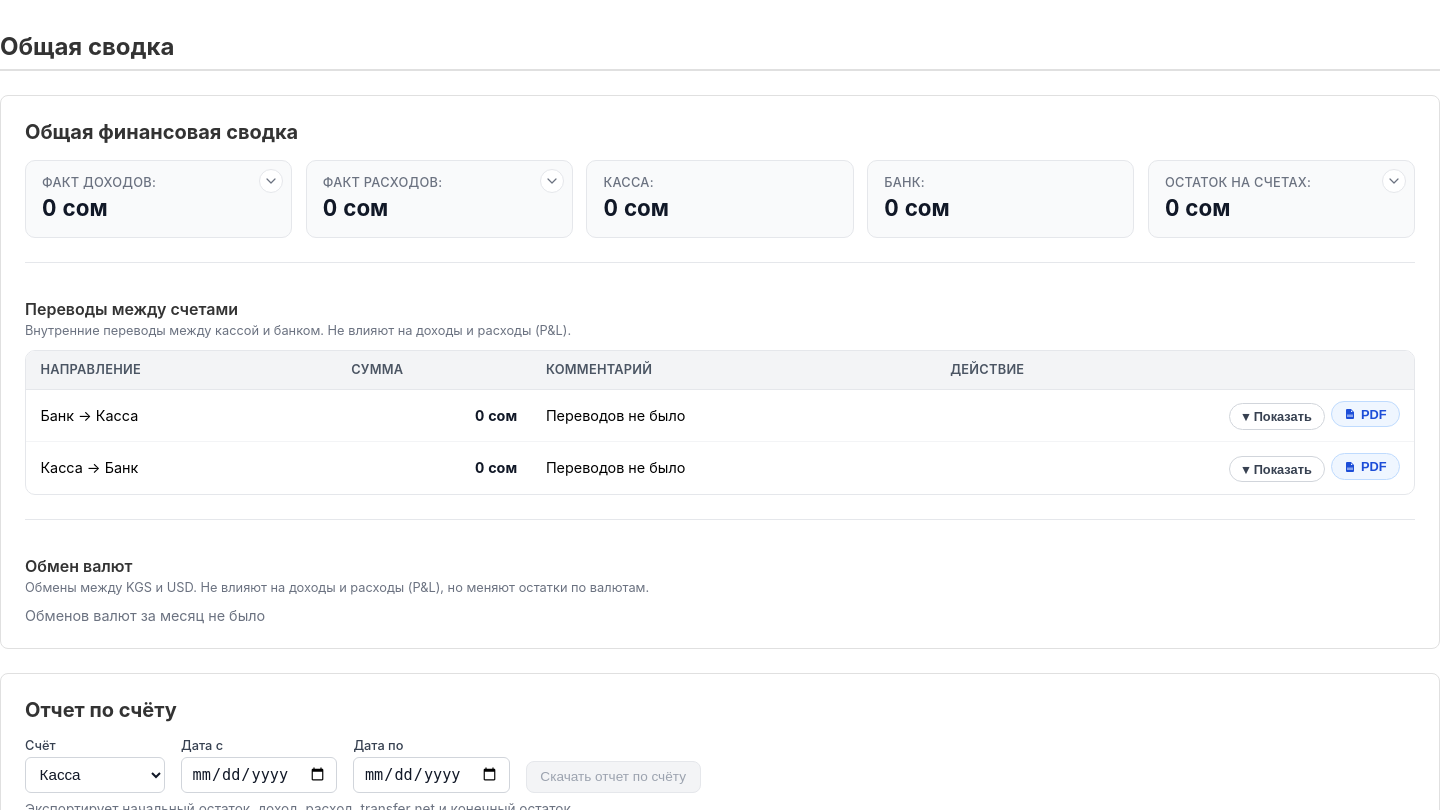
GlobalSummary section PDF export › detail filter defaults from parent filter values
The width and height of the screenshot is (1440, 810).
Click the button named "Показать детализацию расходов по категориям" at (552, 181), box [540,169,564,193]
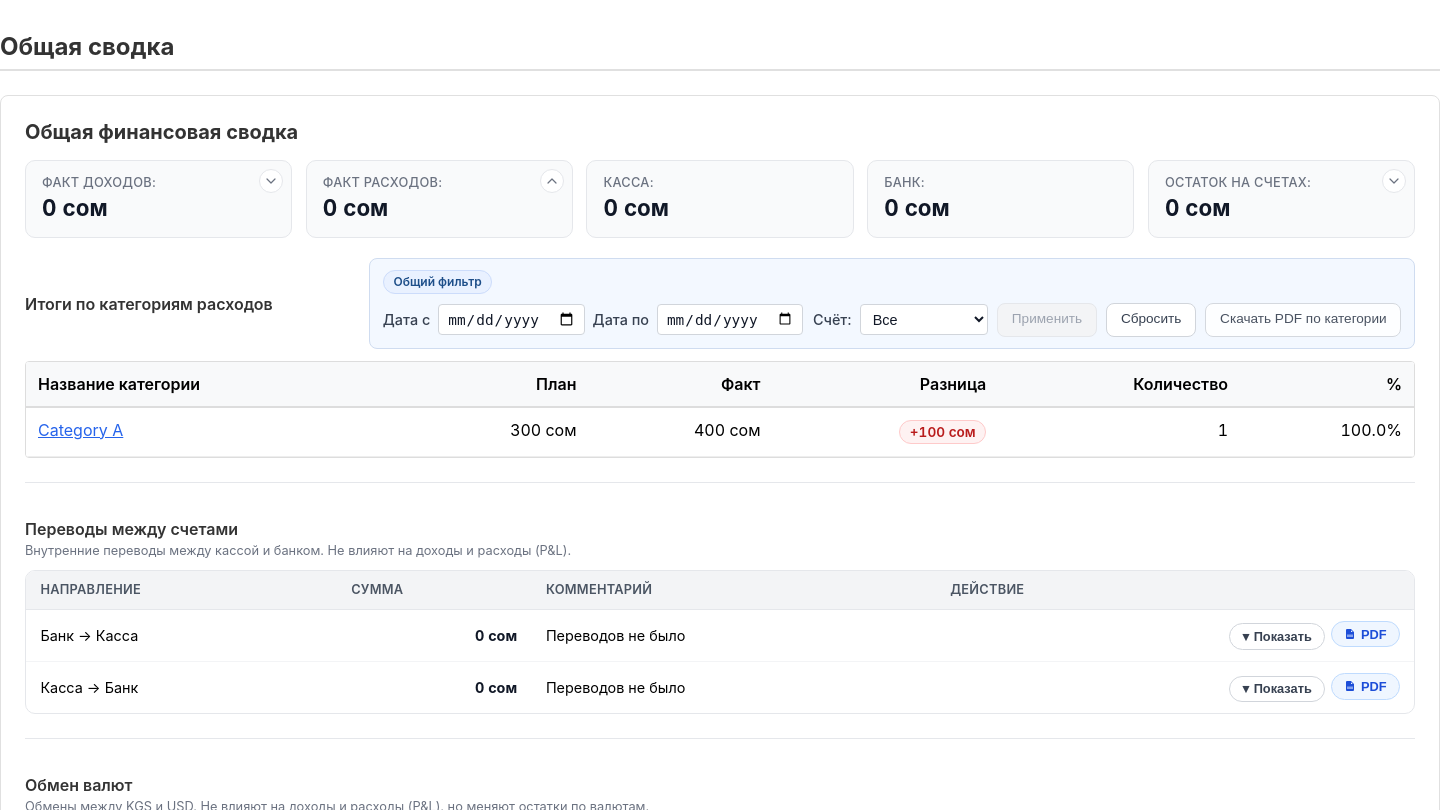
Expected: the text "Итоги по категориям расходов" is shown, [25,294,273,314]
Type "2026-03-01" into the date field labelled "Дата с" at (511, 320), box [438,304,585,335]
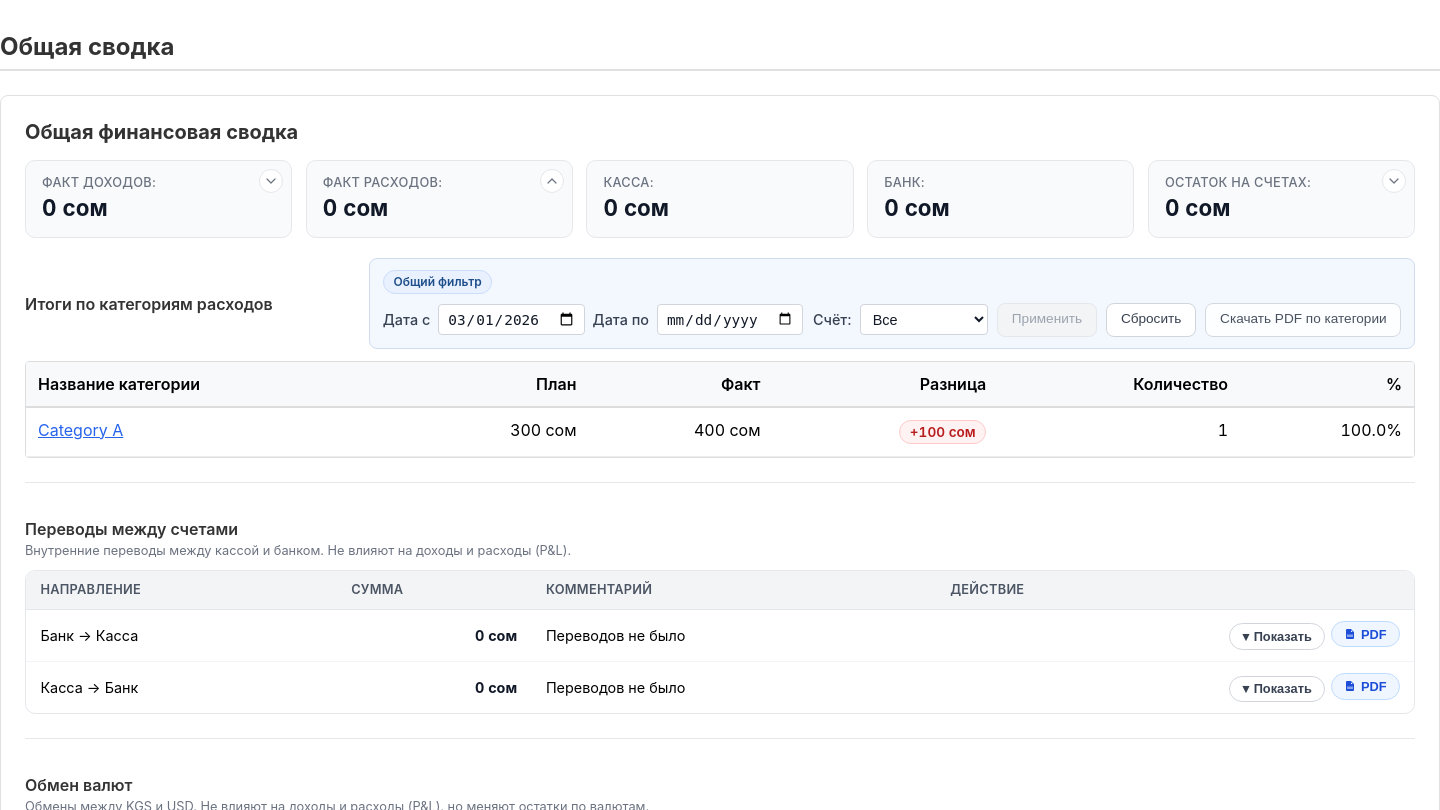
Type "2026-03-30" into the date field labelled "Дата по" at (730, 320), box [657,304,803,335]
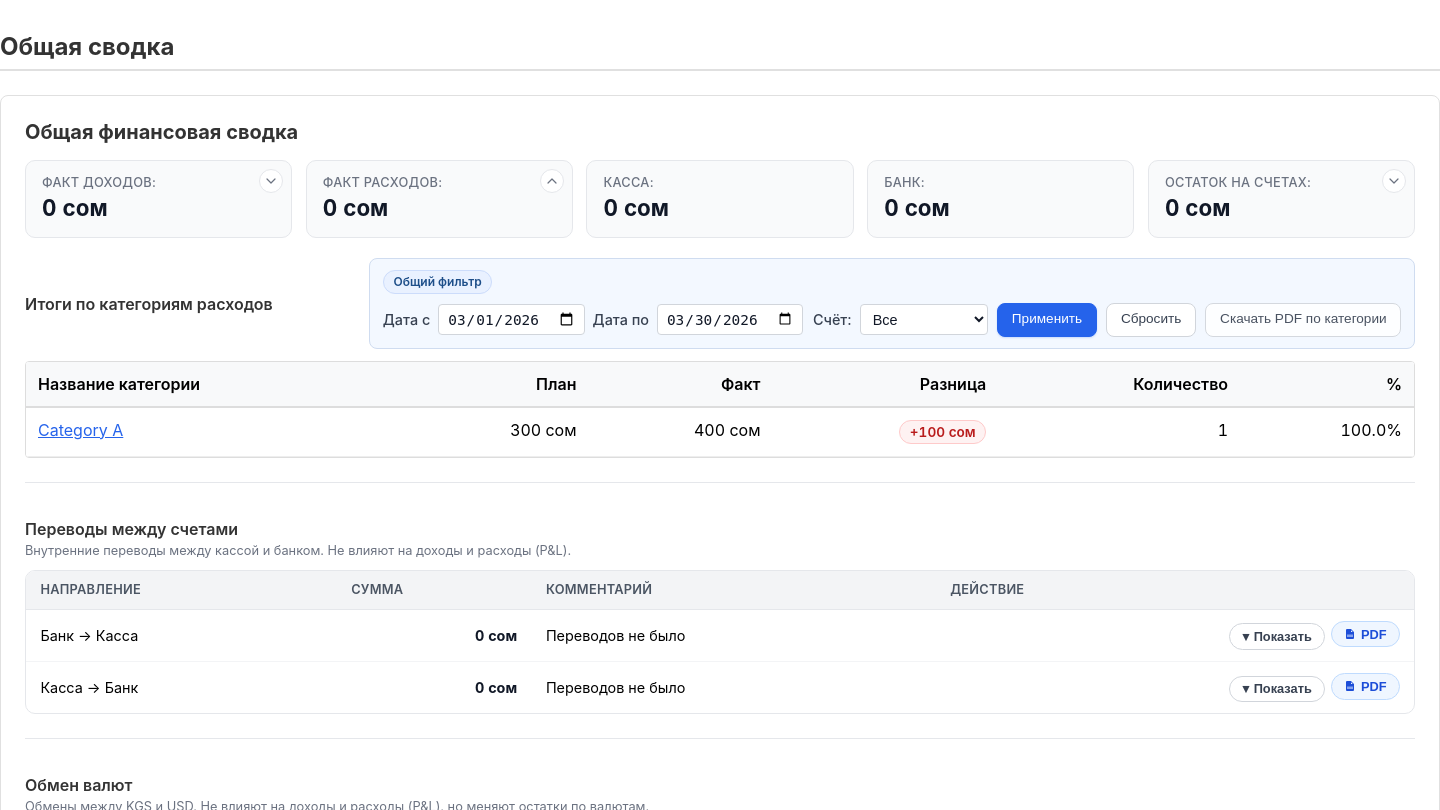
Click the button "Применить" at (1047, 320), box [997,303,1097,337]
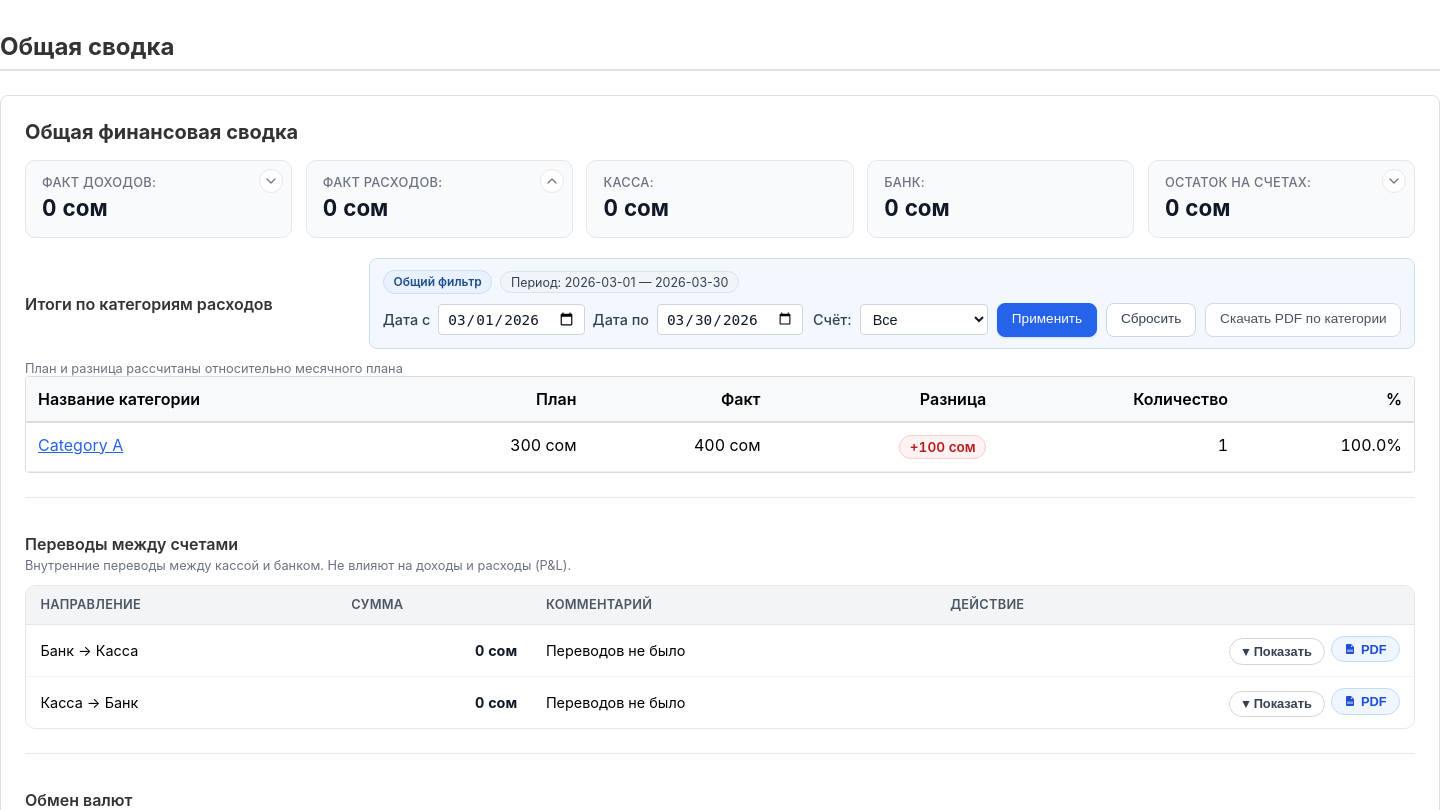
Click the button "Category A" at (81, 445), box [38,435,123,455]
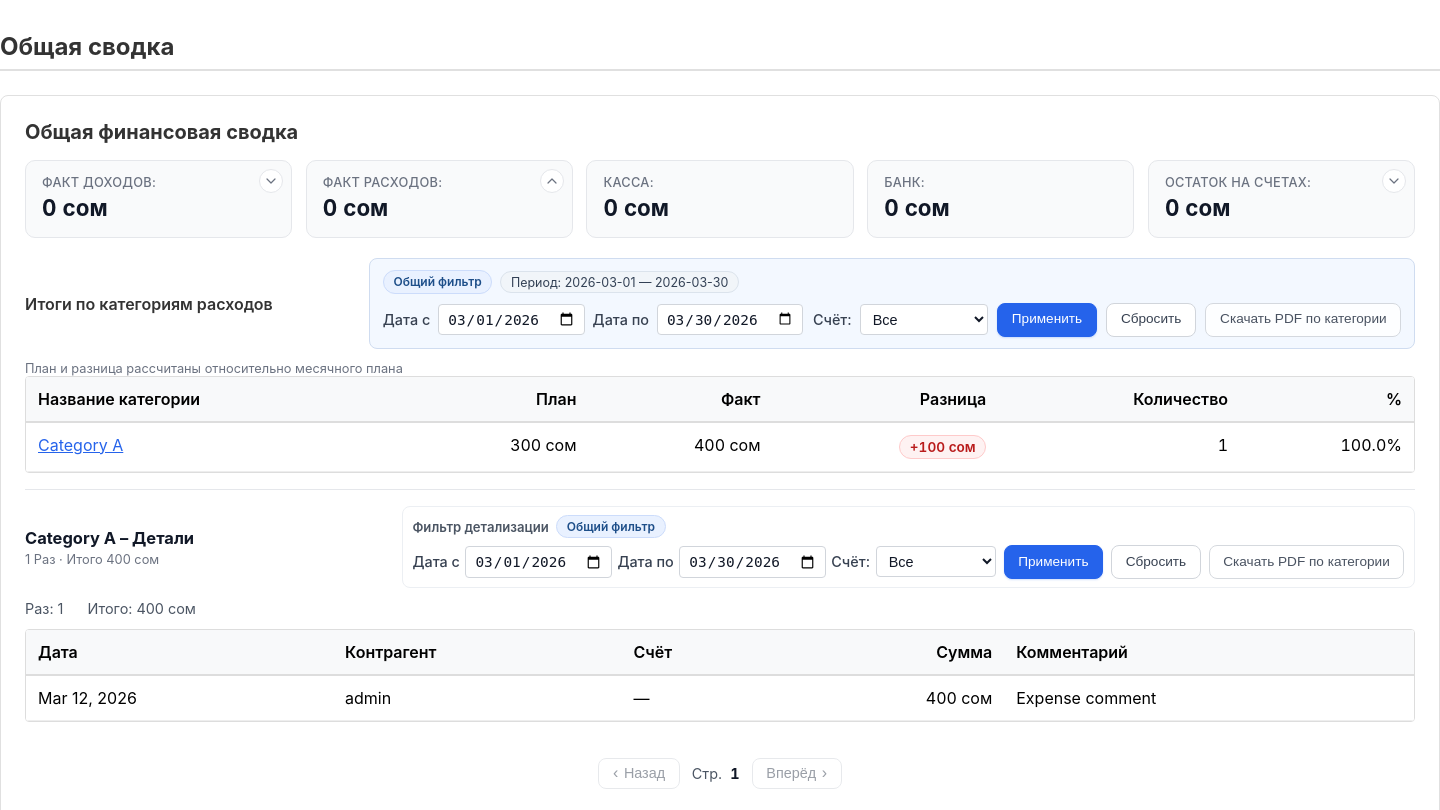
Expected: the element with class "global-summary-expense-details" is shown, [25,489,1415,797]
Expected: the date field labelled "Дата с" below "Фильтр детализации" holds "2026-03-01", [465,546,612,578]
Expected: the date field labelled "Дата по" below "Фильтр детализации" holds "2026-03-30", [679,546,826,578]
